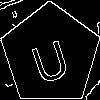U: (25, 30, 73, 86)
